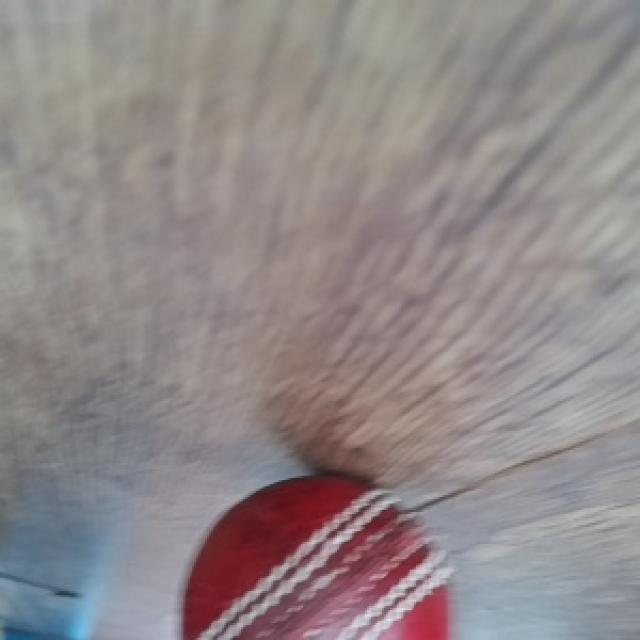ball: (179, 476, 457, 640)
